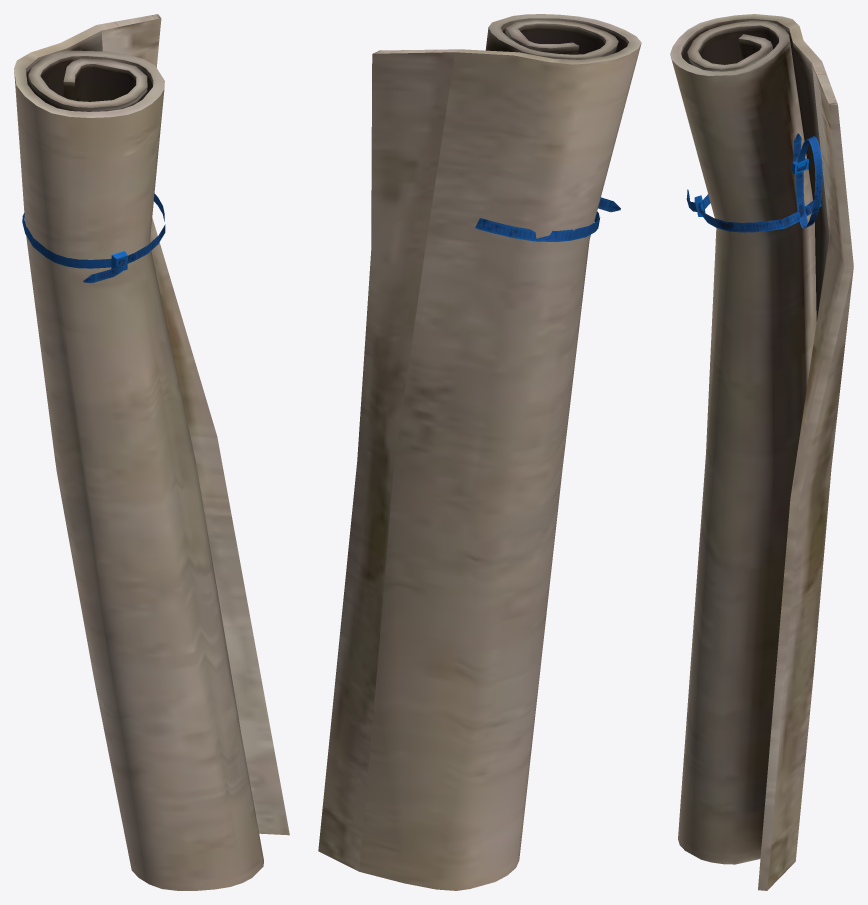
Rendered from retro_tc_wallpaper.glb.
The picture shows the model from 3 angles, left to right: view 1: azimuth 30°, elevation 25°; view 2: azimuth 150°, elevation 25°; view 3: azimuth 270°, elevation 25°; orthographic projection. The views are drawn at different scales.
Visible parts, largest first — view 1: retro_tc_wallpaper_roll_LOD0; view 2: retro_tc_wallpaper_roll_LOD0; view 3: retro_tc_wallpaper_roll_LOD0.
Part boxes in pixels (x1,y1,x2,y2): retro_tc_wallpaper_roll_LOD0: (14, 14, 289, 890); retro_tc_wallpaper_roll_LOD0: (318, 14, 641, 890); retro_tc_wallpaper_roll_LOD0: (670, 14, 853, 890).
Size of the model in its own units: 0.1702 by 0.4798 by 0.1054.
2 materials, 2 textured.
